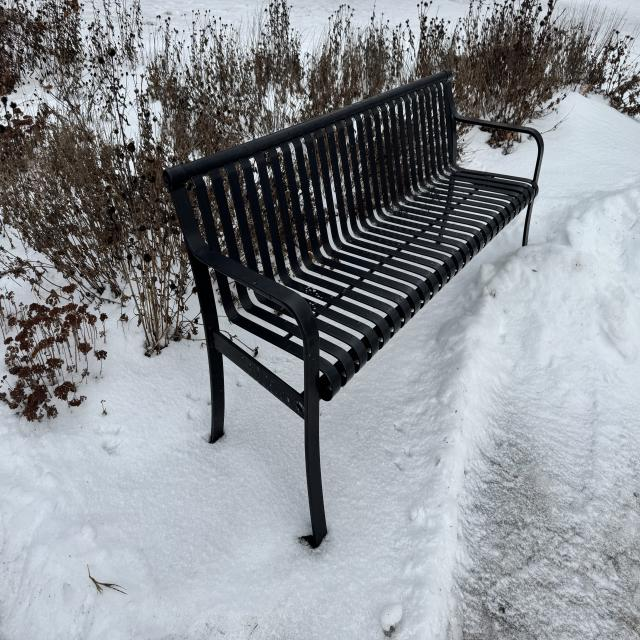Bench: (150, 62, 546, 556)
